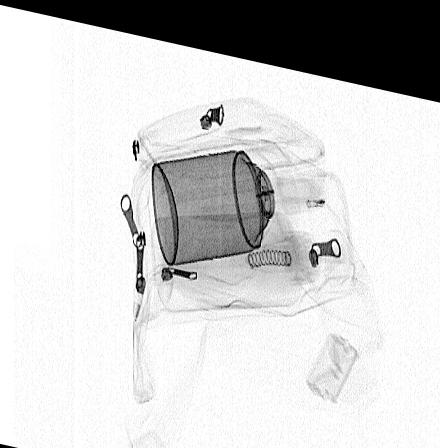Sprayer: (150, 129, 303, 258)
